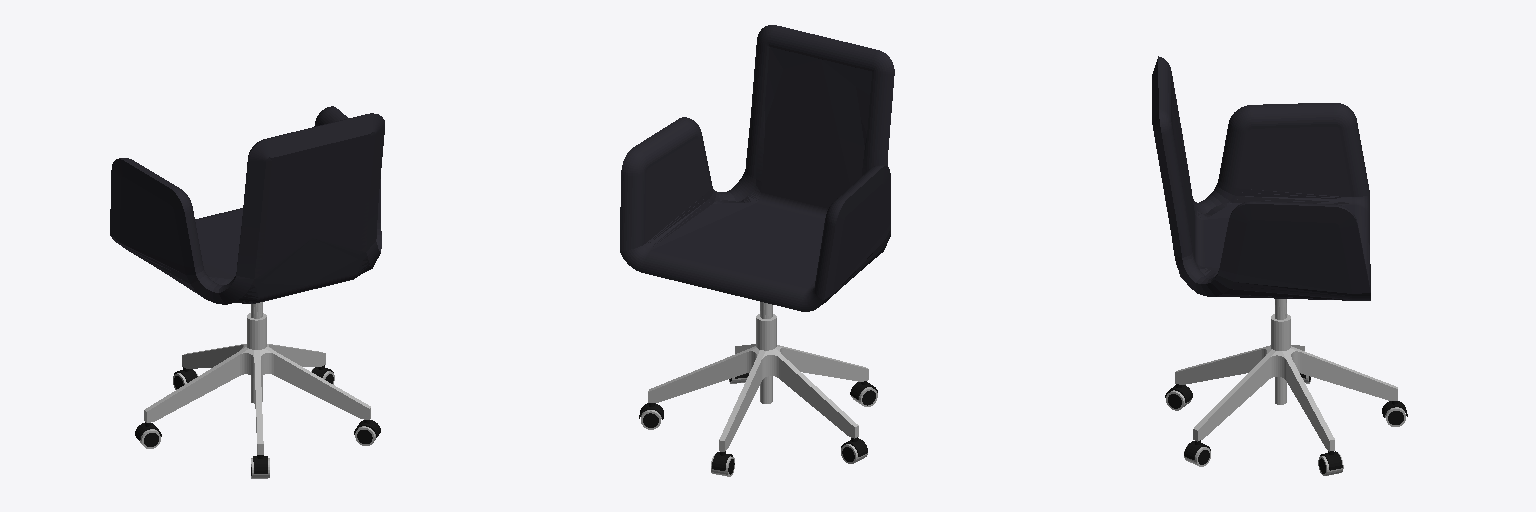
The picture shows the model from 3 angles: view 1: azimuth 30°, elevation 25°; view 2: azimuth 150°, elevation 25°; view 3: azimuth 270°, elevation 25°; orthographic projection.
Parts seen in each view (by area): view 1: Mesh22 Group19 Patrik_kontorsstol1 Model, Mesh17 Patrik_ben4 Group3 Group1 Patrik_kontorsstol1 Model, Mesh13 Patrik_ben3 Group3 Group1 Patrik_kontorsstol1 Model, Mesh9 Patrik_ben2 Group3 Group1 Patrik_kontorsstol1 Model, Mesh1 Group2 Group1 Patrik_kontorsstol1 Model, Mesh5 Patrik_ben1 Group3 Group1 Patrik_kontorsstol1 Model, Mesh21 Patrik_ben5 Group3 Group1 Patrik_kontorsstol1 Model; view 2: Mesh22 Group19 Patrik_kontorsstol1 Model, Mesh13 Patrik_ben3 Group3 Group1 Patrik_kontorsstol1 Model, Mesh21 Patrik_ben5 Group3 Group1 Patrik_kontorsstol1 Model, Mesh9 Patrik_ben2 Group3 Group1 Patrik_kontorsstol1 Model, Mesh5 Patrik_ben1 Group3 Group1 Patrik_kontorsstol1 Model, Mesh1 Group2 Group1 Patrik_kontorsstol1 Model; view 3: Mesh22 Group19 Patrik_kontorsstol1 Model, Mesh5 Patrik_ben1 Group3 Group1 Patrik_kontorsstol1 Model, Mesh17 Patrik_ben4 Group3 Group1 Patrik_kontorsstol1 Model, Mesh21 Patrik_ben5 Group3 Group1 Patrik_kontorsstol1 Model, Mesh9 Patrik_ben2 Group3 Group1 Patrik_kontorsstol1 Model, Mesh1 Group2 Group1 Patrik_kontorsstol1 Model.
Part boxes in pixels (left/top/right/bottom): Mesh22 Group19 Patrik_kontorsstol1 Model: left=110, top=106, right=384, bottom=304; Mesh17 Patrik_ben4 Group3 Group1 Patrik_kontorsstol1 Model: left=260, top=347, right=370, bottom=419; Mesh13 Patrik_ben3 Group3 Group1 Patrik_kontorsstol1 Model: left=144, top=344, right=248, bottom=422; Mesh9 Patrik_ben2 Group3 Group1 Patrik_kontorsstol1 Model: left=238, top=349, right=263, bottom=454; Mesh1 Group2 Group1 Patrik_kontorsstol1 Model: left=247, top=302, right=266, bottom=403; Mesh5 Patrik_ben1 Group3 Group1 Patrik_kontorsstol1 Model: left=182, top=344, right=245, bottom=368; Mesh21 Patrik_ben5 Group3 Group1 Patrik_kontorsstol1 Model: left=267, top=344, right=325, bottom=366; Mesh22 Group19 Patrik_kontorsstol1 Model: left=620, top=25, right=894, bottom=311; Mesh13 Patrik_ben3 Group3 Group1 Patrik_kontorsstol1 Model: left=761, top=348, right=858, bottom=438; Mesh21 Patrik_ben5 Group3 Group1 Patrik_kontorsstol1 Model: left=648, top=346, right=756, bottom=402; Mesh9 Patrik_ben2 Group3 Group1 Patrik_kontorsstol1 Model: left=776, top=345, right=868, bottom=381; Mesh5 Patrik_ben1 Group3 Group1 Patrik_kontorsstol1 Model: left=719, top=348, right=765, bottom=451; Mesh1 Group2 Group1 Patrik_kontorsstol1 Model: left=756, top=302, right=776, bottom=403; Mesh22 Group19 Patrik_kontorsstol1 Model: left=1152, top=56, right=1370, bottom=300; Mesh5 Patrik_ben1 Group3 Group1 Patrik_kontorsstol1 Model: left=1288, top=346, right=1397, bottom=400; Mesh17 Patrik_ben4 Group3 Group1 Patrik_kontorsstol1 Model: left=1193, top=347, right=1275, bottom=441; Mesh21 Patrik_ben5 Group3 Group1 Patrik_kontorsstol1 Model: left=1268, top=350, right=1334, bottom=451; Mesh9 Patrik_ben2 Group3 Group1 Patrik_kontorsstol1 Model: left=1175, top=345, right=1270, bottom=384; Mesh1 Group2 Group1 Patrik_kontorsstol1 Model: left=1271, top=299, right=1290, bottom=404.
Size of the model in its own units: 0.5599 by 0.8553 by 0.5715.